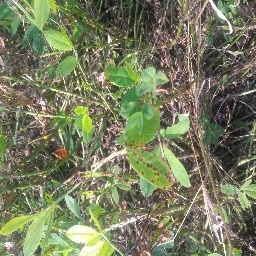GroundNut_Leaf: (126, 148, 174, 190), (126, 106, 162, 144), (22, 215, 47, 254), (65, 224, 100, 243), (76, 106, 93, 143), (43, 30, 76, 49), (141, 66, 169, 85), (55, 58, 77, 82), (33, 1, 49, 26)
